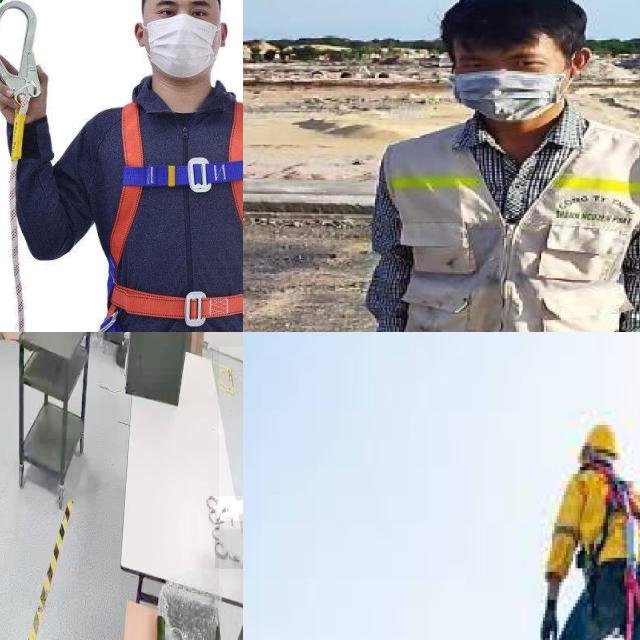Harness: (96, 96, 243, 332), (573, 455, 640, 637)
No_Ear-Protection: (135, 20, 146, 48)
No_Glasses: (149, 0, 216, 17)
face_mask: (445, 42, 571, 118)
hand_glove: (215, 521, 243, 569), (213, 496, 243, 529)
head_nohelmet: (437, 0, 593, 43)
person: (360, 0, 640, 332)
vest: (388, 118, 640, 332)
